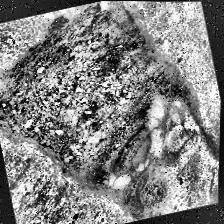pothole: (1, 0, 214, 212)
